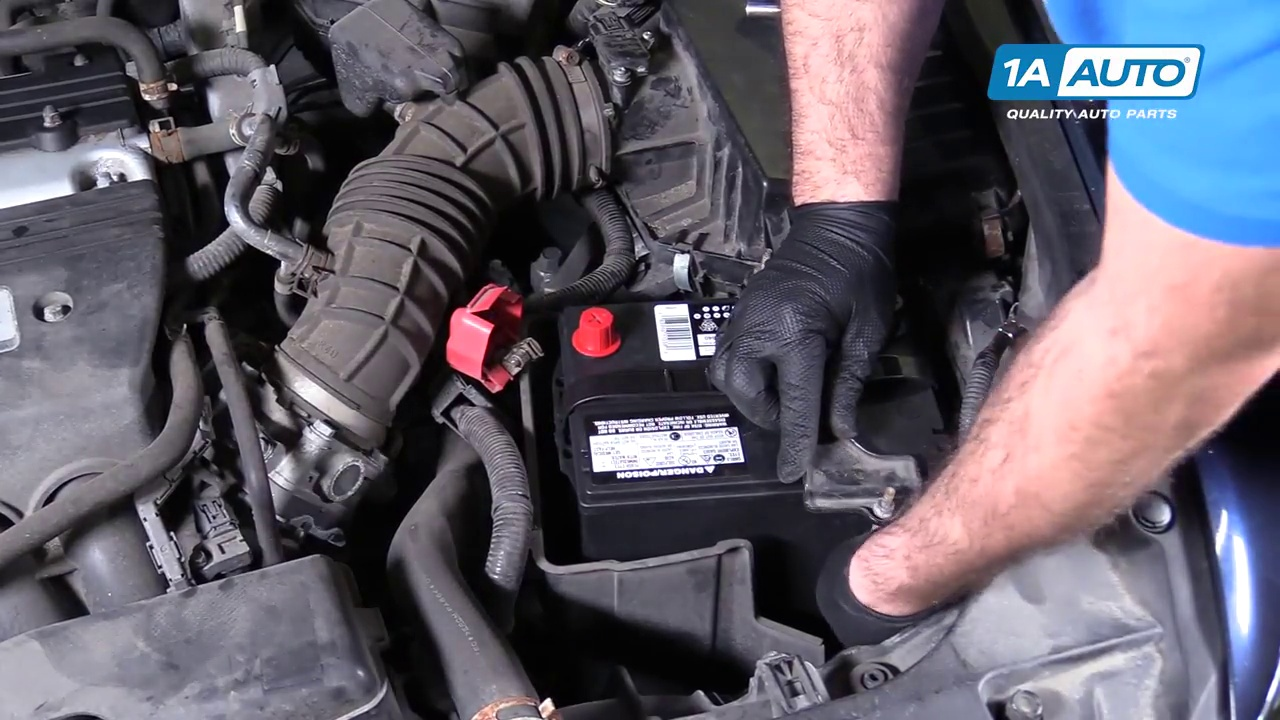battery: (554, 296, 959, 499)
pos_disconnected: (433, 291, 632, 389)
